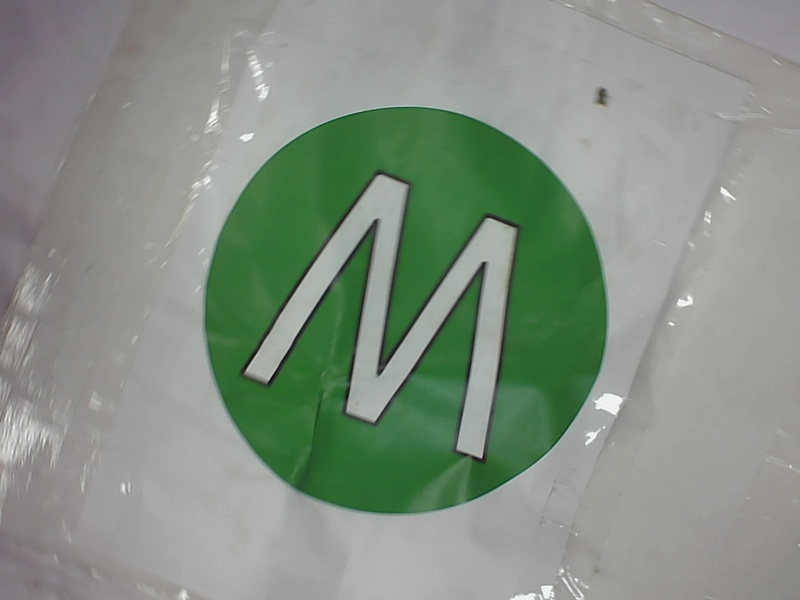areaB: (183, 100, 616, 523)
